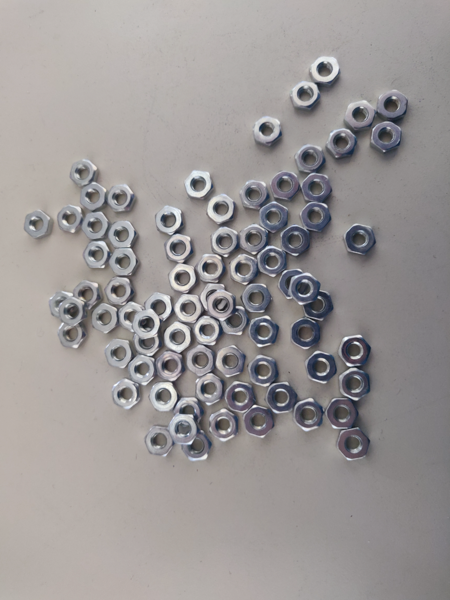nut: (303, 350, 337, 384), (256, 199, 289, 233), (336, 429, 371, 461), (264, 382, 297, 414), (280, 225, 313, 257), (343, 224, 377, 255), (326, 397, 358, 429), (216, 346, 248, 378), (339, 335, 372, 366), (224, 380, 255, 413), (181, 430, 214, 461), (290, 272, 321, 305), (340, 367, 370, 401), (244, 406, 275, 438), (290, 318, 322, 349), (248, 316, 279, 348), (300, 173, 332, 204), (239, 222, 269, 255), (310, 55, 340, 88), (373, 119, 402, 153), (303, 290, 334, 321), (241, 283, 273, 313), (300, 201, 332, 231), (379, 88, 409, 120), (327, 127, 357, 159), (209, 409, 238, 442), (293, 144, 326, 173), (248, 355, 278, 386), (257, 246, 288, 276), (290, 80, 321, 110), (173, 293, 203, 324), (170, 413, 199, 445), (295, 399, 323, 432), (253, 116, 283, 146), (164, 233, 194, 263), (112, 379, 142, 409), (169, 263, 198, 294), (188, 345, 217, 376), (156, 350, 185, 381), (195, 374, 223, 406), (105, 337, 133, 369), (185, 171, 214, 201), (196, 253, 225, 283), (221, 306, 250, 336), (133, 310, 162, 340), (272, 170, 300, 201), (208, 194, 236, 225), (92, 302, 119, 334), (146, 293, 172, 326), (69, 159, 98, 188), (149, 383, 178, 412), (104, 276, 133, 305), (156, 206, 184, 236), (24, 210, 52, 240), (346, 100, 373, 131), (230, 253, 257, 284), (164, 322, 191, 353), (193, 316, 220, 346), (146, 425, 172, 456), (209, 290, 235, 321), (59, 321, 87, 349), (58, 298, 86, 326), (241, 180, 268, 209), (211, 228, 238, 257), (108, 184, 135, 213), (109, 221, 137, 248), (50, 290, 77, 318), (110, 249, 139, 275), (73, 281, 99, 310), (129, 355, 154, 385), (82, 242, 109, 269), (56, 206, 82, 234), (119, 302, 142, 333), (83, 212, 109, 239), (80, 183, 106, 210), (279, 270, 304, 298), (200, 284, 227, 309), (172, 399, 202, 420), (134, 331, 160, 354)
